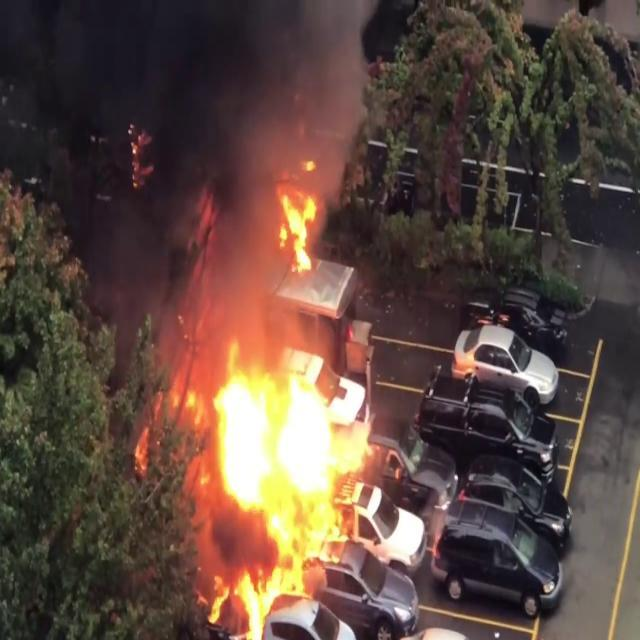Fire: (186, 342, 396, 630), (272, 178, 330, 274)
Smoke: (108, 0, 370, 292)
